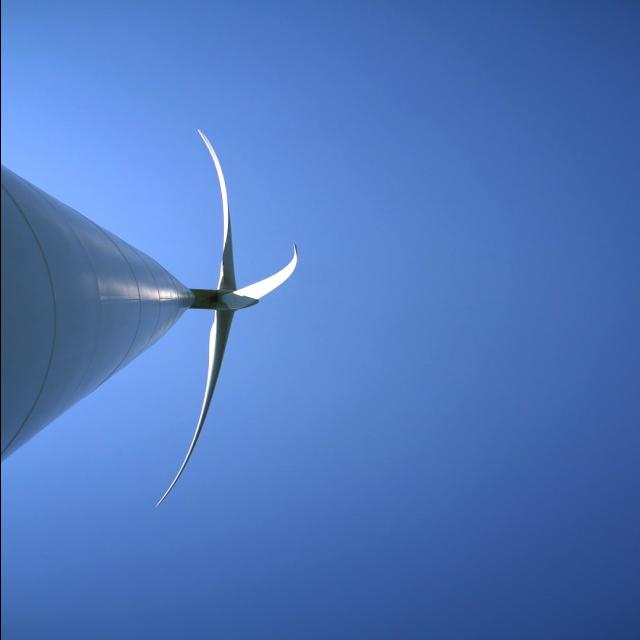blade 1: (184, 341, 238, 452)
blade 2: (188, 127, 238, 290)
blade 3: (254, 245, 308, 293)
